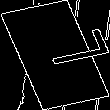L_W: (13, 33, 97, 77)
